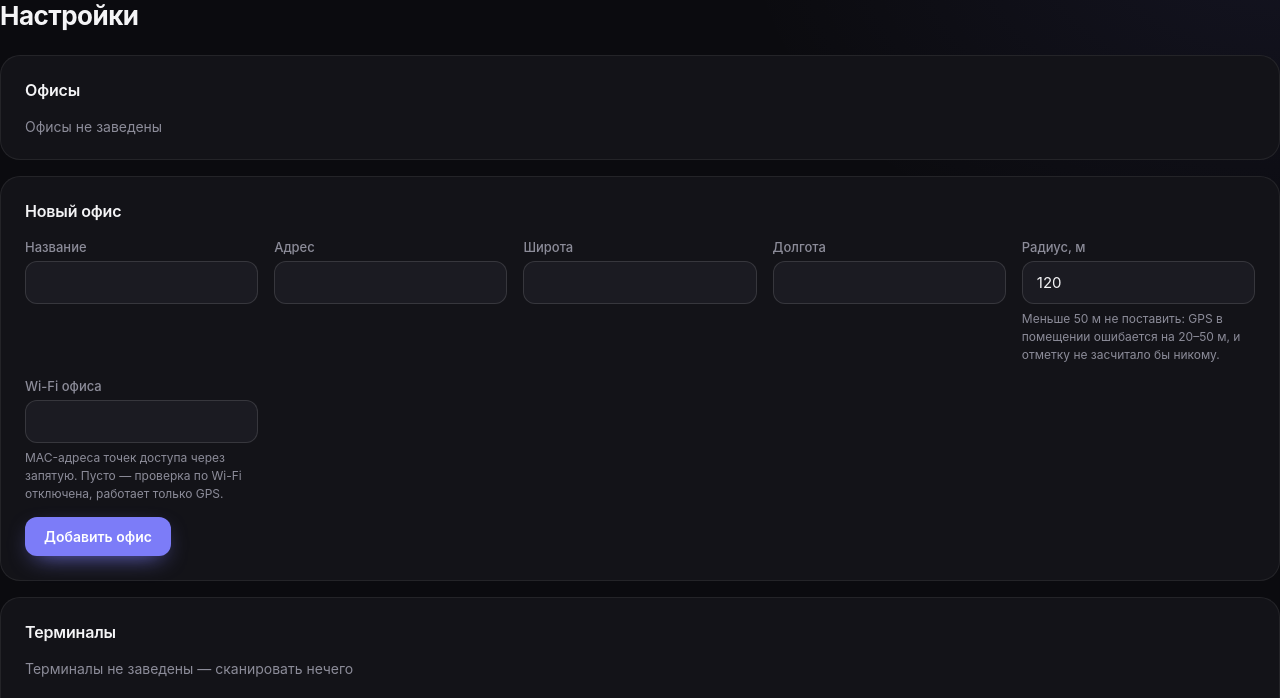
Test: предупреждение о факторе Wi-Fi › заполненное поле объясняет цену решения
This screenshot has width=1280, height=698.
Expected: the heading "Новый офис" is shown, [25,201,121,221]
Type "A1:B2:C3:D4:E5:F6" into the field labelled "Wi-Fi офиса" at [142, 422], box [25,400,258,443]
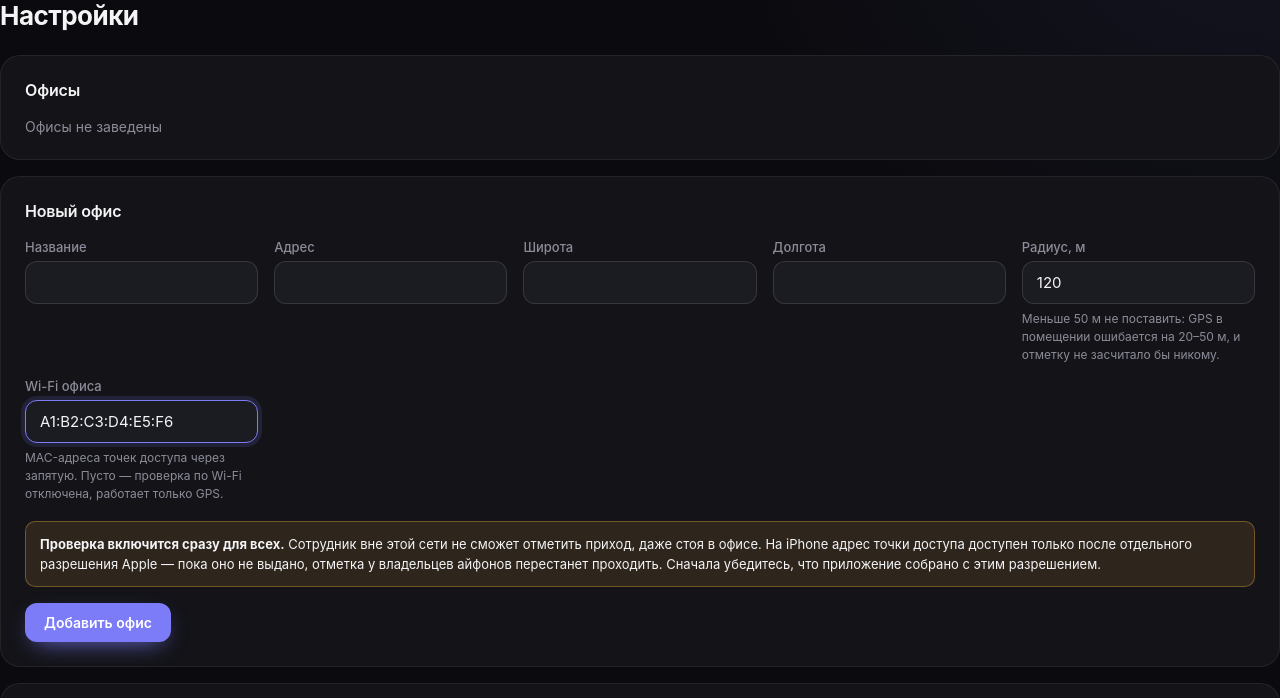
Expected: the text "Проверка включится сразу для всех." is shown, [40,536,284,552]
